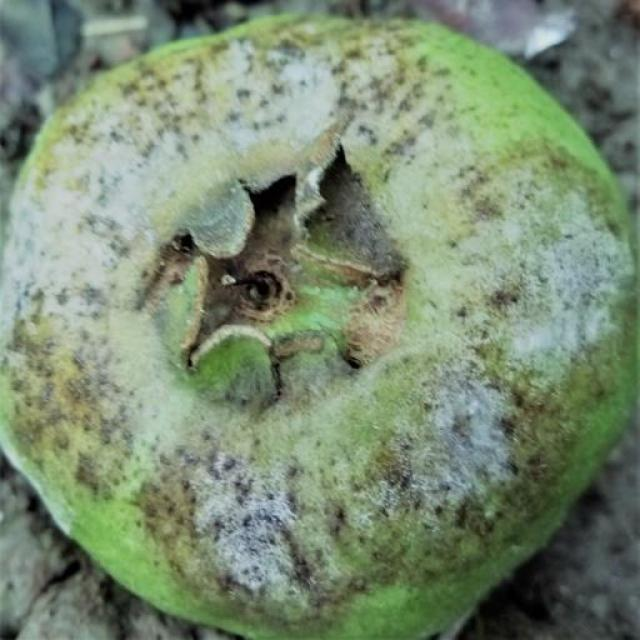Phytopthora: (0, 16, 636, 640)
